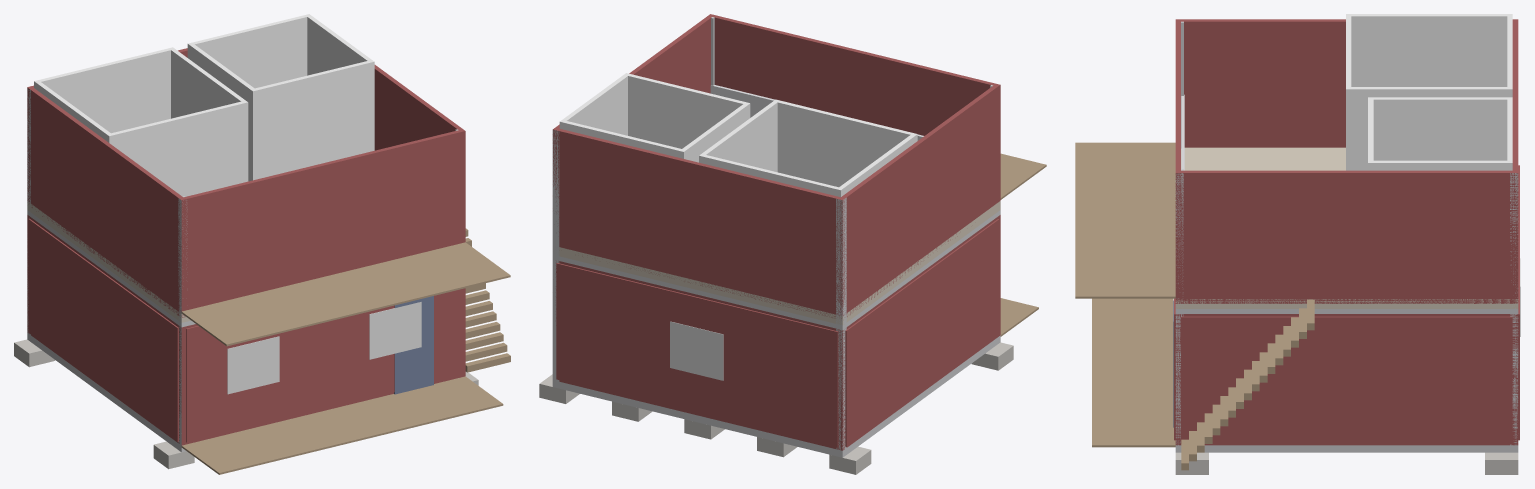
File: Duplex-20-Base-MaroonRed-LOD0.glb
3 renders of one model, left to right at view 1: azimuth 30°, elevation 25°; view 2: azimuth 150°, elevation 25°; view 3: azimuth 270°, elevation 25°, orthographic. The views are drawn at different scales.
Visible parts, largest first — view 1: ExteriorShellUpper, ExteriorPanelsStandard, StudyUpper, BedroomUpper, BalconyUpper, BalconyGround, WindowsStandard, StaircaseExternal, ExteriorShell, EntryDoor, FoundationBlocks, FloorUpper (+3 smaller); view 2: ExteriorShellUpper, ExteriorPanelsStandard, BedroomUpper, StudyUpper, FloorUpper, VerticalStructure, FoundationBlocks, BaseFrame, ExteriorShell, WindowsStandard, TopFrame, BalconyUpper (+2 smaller); view 3: ExteriorShellUpper, ExteriorPanelsStandard, BalconyUpper, BedroomUpper, BalconyGround, StudyUpper, FloorUpper, StaircaseExternal, ExteriorShell, BaseFrame, VerticalStructure, TopFrame (+1 smaller).
Boxes of the visible parts, <box> form: ExteriorShellUpper: <box>27,48,465,317</box>; ExteriorPanelsStandard: <box>28,218,461,442</box>; StudyUpper: <box>187,14,374,181</box>; BedroomUpper: <box>34,47,248,196</box>; BalconyUpper: <box>181,242,510,346</box>; BalconyGround: <box>181,376,503,474</box>; WindowsStandard: <box>227,302,421,394</box>; StaircaseExternal: <box>465,228,510,372</box>; ExteriorShell: <box>27,215,465,445</box>; EntryDoor: <box>394,296,433,394</box>; FoundationBlocks: <box>14,339,478,469</box>; FloorUpper: <box>27,201,190,322</box>; ExteriorShellUpper: <box>552,14,1000,318</box>; ExteriorPanelsStandard: <box>556,219,999,447</box>; BedroomUpper: <box>699,99,917,197</box>; StudyUpper: <box>559,73,750,162</box>; FloorUpper: <box>558,201,1000,325</box>; VerticalStructure: <box>552,17,998,449</box>; FoundationBlocks: <box>539,342,1013,474</box>; BaseFrame: <box>552,335,1000,457</box>; ExteriorShell: <box>556,215,1000,450</box>; WindowsStandard: <box>670,321,723,380</box>; TopFrame: <box>555,210,1000,329</box>; BalconyUpper: <box>1000,153,1046,199</box>; ExteriorShellUpper: <box>1175,19,1518,303</box>; ExteriorPanelsStandard: <box>1174,165,1519,443</box>; BalconyUpper: <box>1075,142,1175,298</box>; BedroomUpper: <box>1346,14,1512,170</box>; BalconyGround: <box>1092,298,1175,447</box>; StudyUpper: <box>1368,97,1512,170</box>; FloorUpper: <box>1175,147,1518,308</box>; StaircaseExternal: <box>1181,299,1314,470</box>; ExteriorShell: <box>1175,314,1518,445</box>; BaseFrame: <box>1175,445,1518,452</box>; VerticalStructure: <box>1175,21,1518,445</box>; TopFrame: <box>1175,309,1518,313</box>.
Bounding box in the file's own units: 7.94 × 6 × 8.
